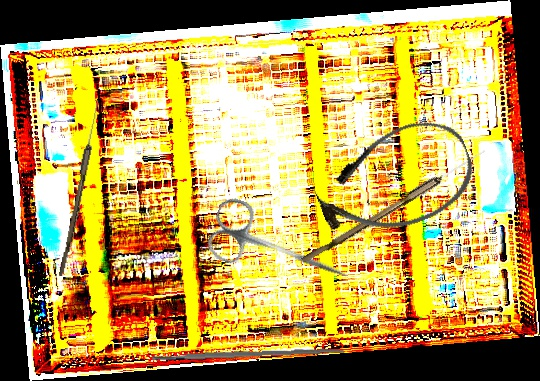Cannula: (304, 108, 485, 253)
Iris Scissors: (202, 194, 360, 303)
Scalpel Handle: (151, 346, 345, 362)
Surgical Spoon: (301, 145, 488, 268), (58, 98, 102, 278)
